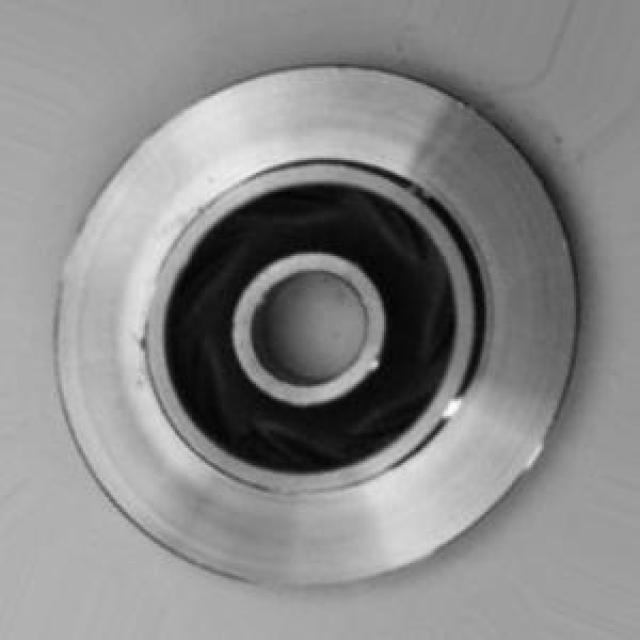Defect: (135, 334, 150, 356)
